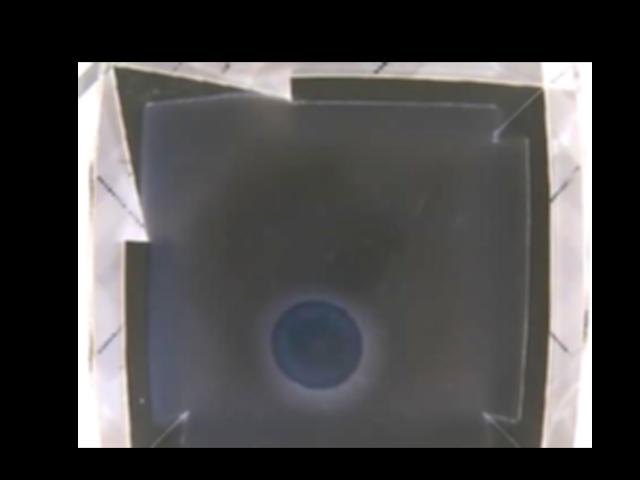Mooli: (270, 299, 364, 386)
